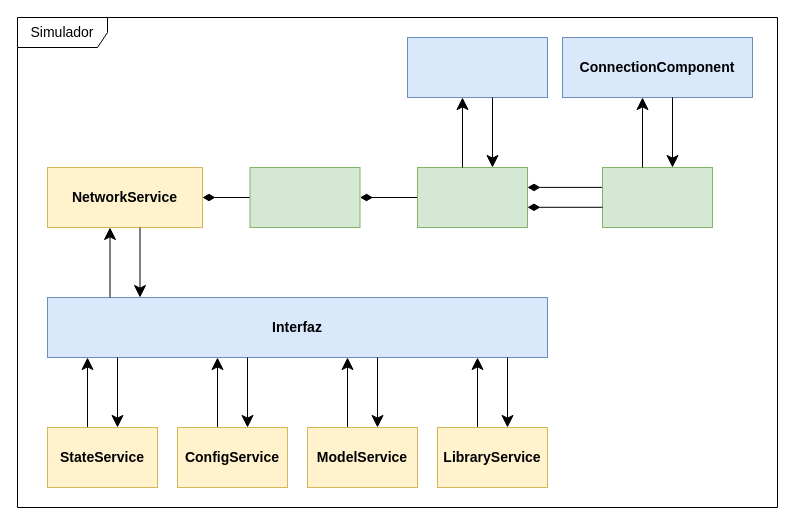
Image size: 795x525. Some labels were removed from this diagram. The centre of each missing label's shape, as x and y in pixels:
Connection: [657,197]
Network: [304,197]
Node: [472,197]
NodeComponent: [477,67]
